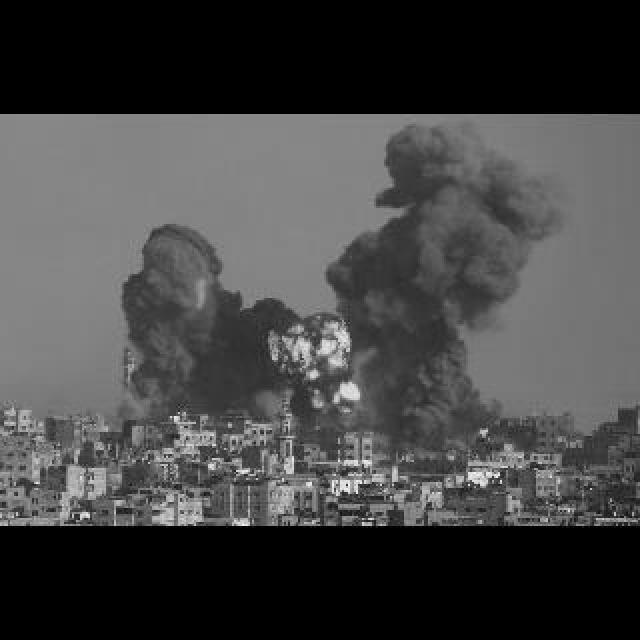fire: (342, 124, 568, 422), (136, 206, 276, 418), (262, 308, 362, 416)
